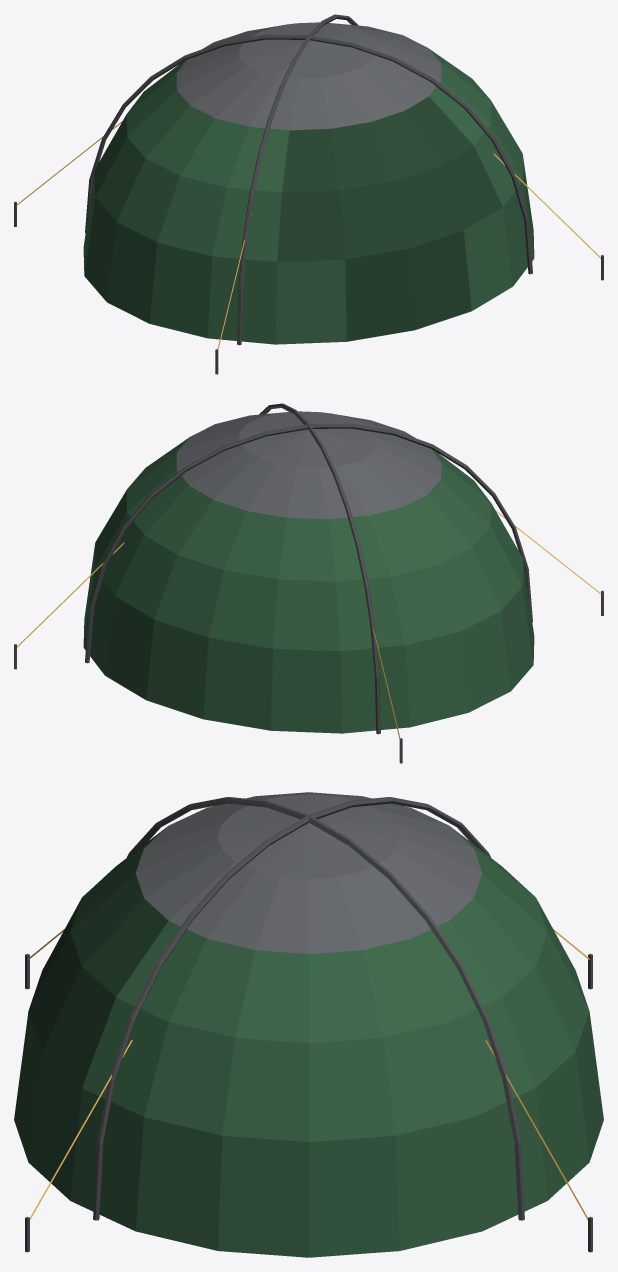
File: tent_dome_2p_custom.glb
The picture shows the model from 3 angles, top to bottom: view 1: azimuth 30°, elevation 25°; view 2: azimuth 150°, elevation 25°; view 3: azimuth 270°, elevation 25°; orthographic projection. The views are drawn at different scales.
Parts seen in each view (by area): view 1: body; view 2: body; view 3: body.
Boxes of the visible parts, left/top/right/bottom form: body: left=14, top=14, right=603, bottom=374; body: left=14, top=403, right=603, bottom=763; body: left=14, top=792, right=603, bottom=1257.
Bounding box in the file's own units: 2.1 × 1.08 × 1.9.
Materials: 3 (3 with a texture image).
